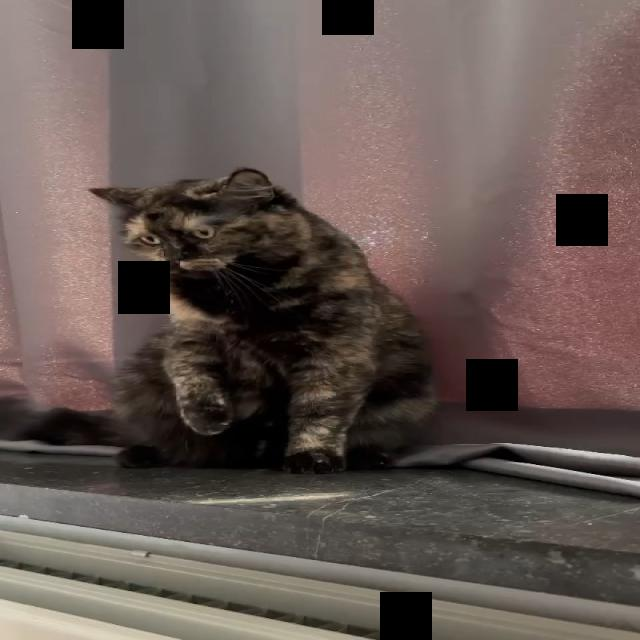authorized: (86, 166, 438, 475)
